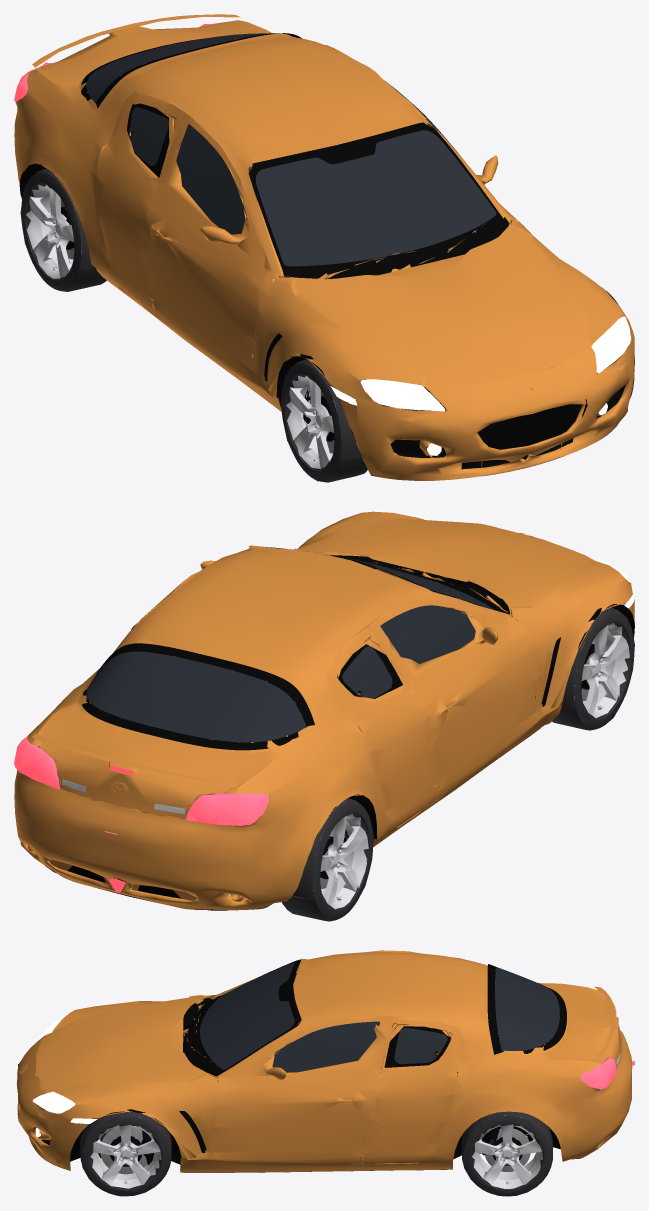
The picture shows the model from 3 angles, top to bottom: view 1: azimuth 30°, elevation 25°; view 2: azimuth 150°, elevation 25°; view 3: azimuth 270°, elevation 25°; orthographic projection. The views are drawn at different scales.
Visible parts, largest first — view 1: polySurface101_RX8:_TNRRims_150A18NaTireBlur_Material1_0, rx8_wheel_FR.001, rx8_wheel_RR.001; view 2: polySurface101_RX8:_TNRRims_150A18NaTireBlur_Material1_0, rx8_wheel_RR.001, rx8_wheel_FR.001; view 3: polySurface101_RX8:_TNRRims_150A18NaTireBlur_Material1_0, rx8_wheel_RL.001, rx8_wheel_FL.001.
Part boxes in pixels (box(x1,y1,x2,y2)): polySurface101_RX8:_TNRRims_150A18NaTireBlur_Material1_0: box(14, 14, 634, 480); rx8_wheel_FR.001: box(280, 359, 367, 482); rx8_wheel_RR.001: box(20, 168, 106, 291); polySurface101_RX8:_TNRRims_150A18NaTireBlur_Material1_0: box(14, 511, 634, 910); rx8_wheel_RR.001: box(281, 798, 373, 921); rx8_wheel_FR.001: box(552, 608, 634, 730); polySurface101_RX8:_TNRRims_150A18NaTireBlur_Material1_0: box(16, 950, 634, 1174); rx8_wheel_RL.001: box(461, 1111, 552, 1196); rx8_wheel_FL.001: box(80, 1112, 171, 1196).
Size of the model in its own units: 1.78 by 1.3 by 4.39.
